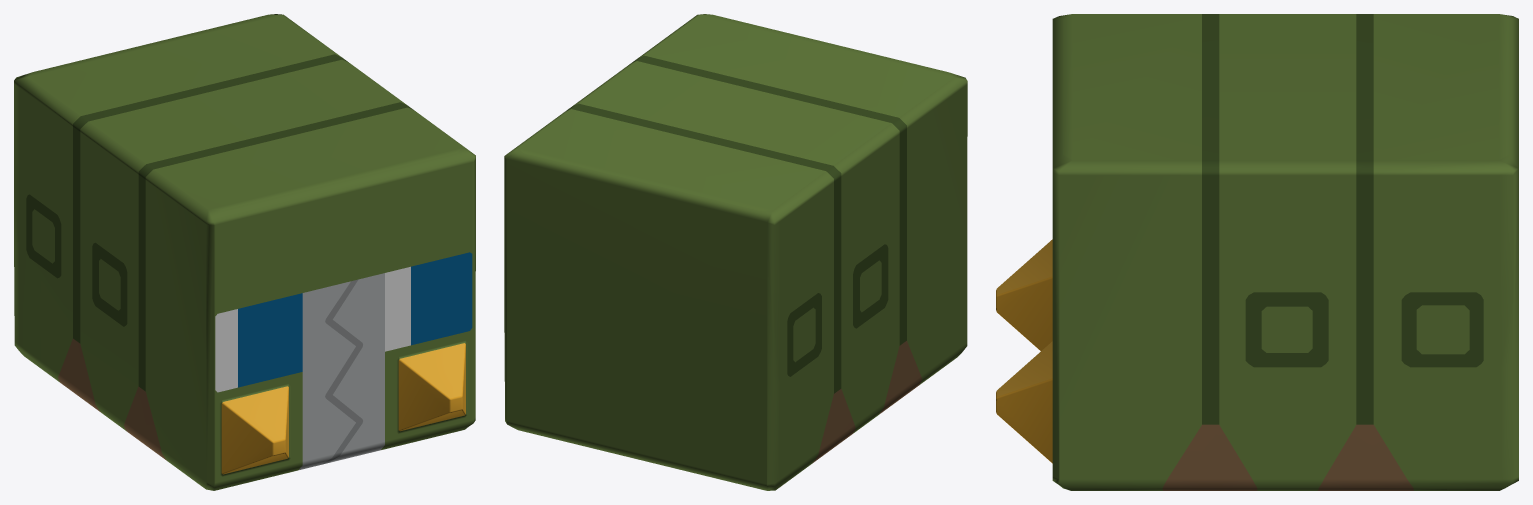
The picture shows the model from 3 angles, left to right: view 1: azimuth 30°, elevation 25°; view 2: azimuth 150°, elevation 25°; view 3: azimuth 270°, elevation 25°; orthographic projection. The views are drawn at different scales.
Visible parts, largest first — view 1: model; view 2: model; view 3: model.
Boxes of the visible parts, bbox=[...] form: model: bbox=[14, 14, 475, 490]; model: bbox=[504, 14, 967, 490]; model: bbox=[996, 14, 1518, 490].
Bounding box in the file's own units: 1.36 × 1.35 × 1.94.
